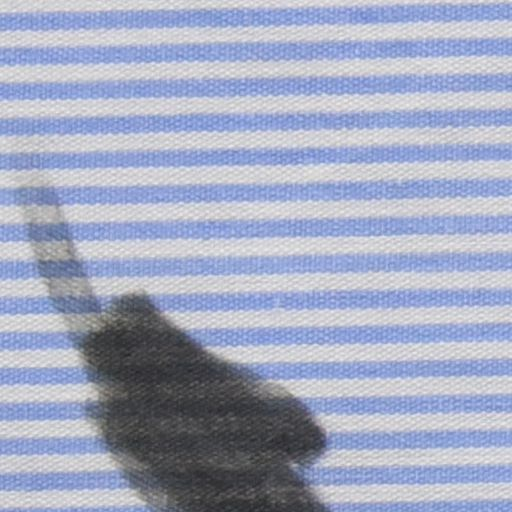defect: (17, 192, 326, 512)
